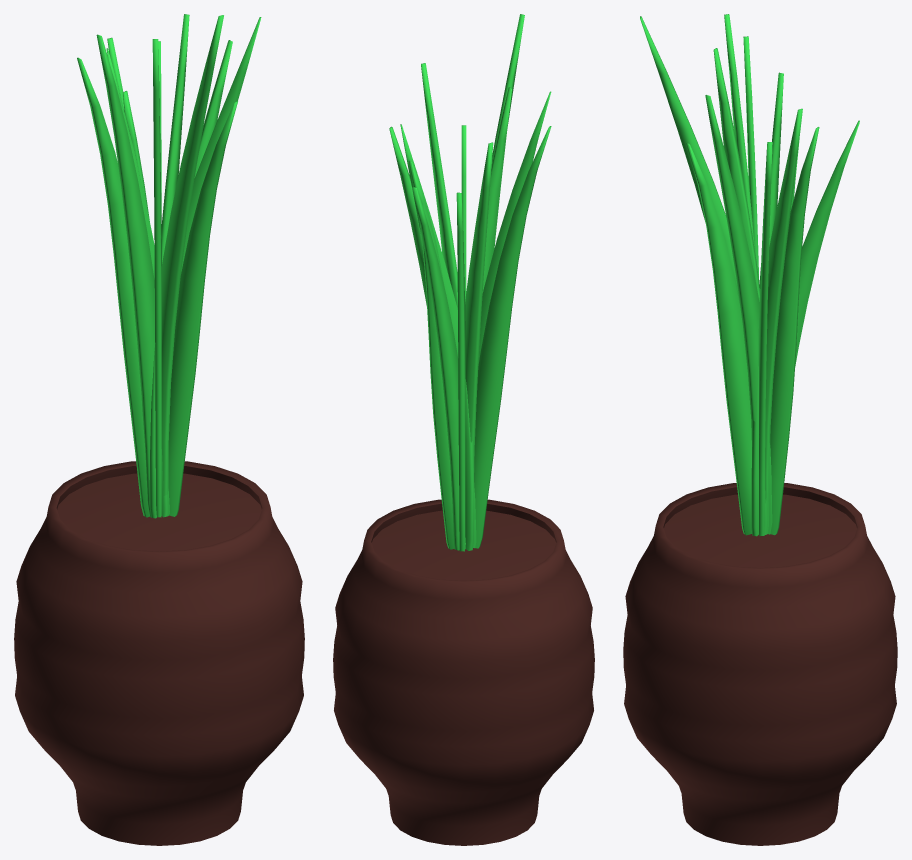
File: Plante07_low.fbx
3 renders of one model, left to right at view 1: azimuth 30°, elevation 25°; view 2: azimuth 150°, elevation 25°; view 3: azimuth 270°, elevation 25°, orthographic. The views are drawn at different scales.
Visible parts, largest first — view 1: 07_Pot, 07_Plante, 07_Terre; view 2: 07_Pot, 07_Plante, 07_Terre; view 3: 07_Pot, 07_Plante, 07_Terre.
Boxes of the visible parts, x1=… form: 07_Pot: x1=14, y1=461, x2=304, y2=845; 07_Plante: x1=77, y1=14, x2=261, y2=518; 07_Terre: x1=57, y1=473, x2=261, y2=551; 07_Pot: x1=333, y1=499, x2=594, y2=845; 07_Plante: x1=389, y1=14, x2=551, y2=551; 07_Terre: x1=372, y1=510, x2=555, y2=580; 07_Pot: x1=623, y1=483, x2=897, y2=845; 07_Plante: x1=640, y1=14, x2=859, y2=536; 07_Terre: x1=664, y1=494, x2=856, y2=567.
Size of the model in its own units: 42.39 by 136 by 42.39.
